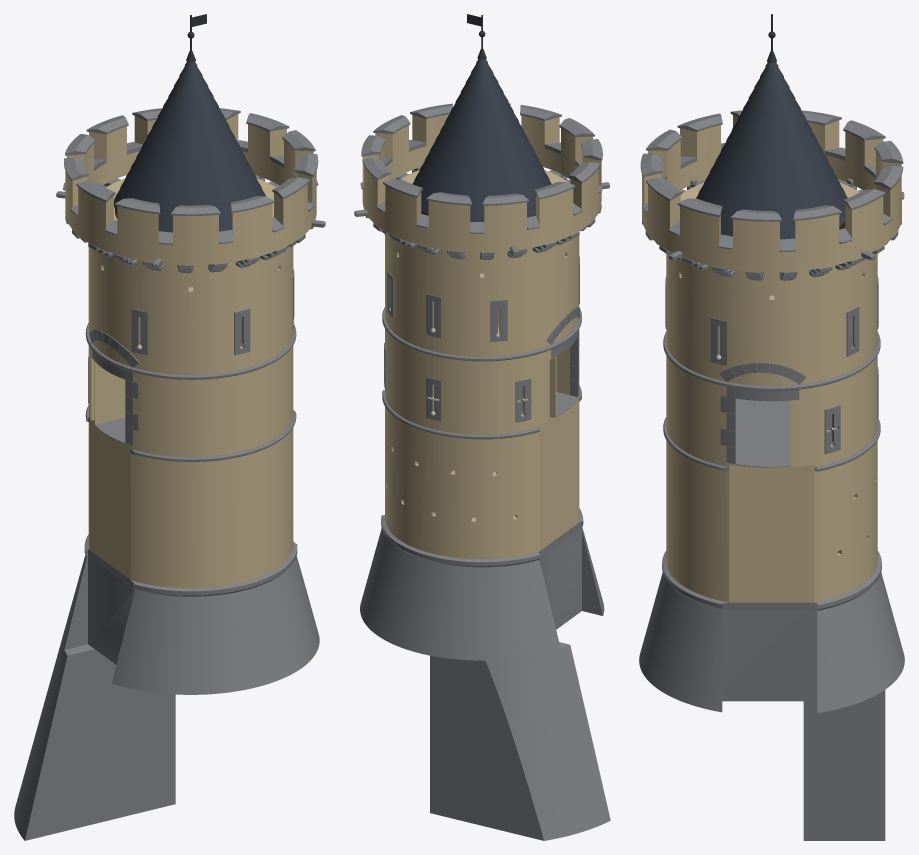
3 views of the same model, side by side, from view 1: azimuth 30°, elevation 25°; view 2: azimuth 150°, elevation 25°; view 3: azimuth 270°, elevation 25° (orthographic). The views are drawn at different scales.
Parts seen in each view (by area): view 1: Mesh_GateTower_ck-limestone-ashlar, Mesh_GateTower_ck-rubble, Mesh_GateTower_ck-granite-ashlar, Mesh_GateTower_ck-slate; view 2: Mesh_GateTower_ck-limestone-ashlar, Mesh_GateTower_ck-rubble, Mesh_GateTower_ck-granite-ashlar, Mesh_GateTower_ck-slate; view 3: Mesh_GateTower_ck-limestone-ashlar, Mesh_GateTower_ck-rubble, Mesh_GateTower_ck-granite-ashlar, Mesh_GateTower_ck-slate.
Boxes of the visible parts, left/top/right/bottom form: Mesh_GateTower_ck-limestone-ashlar: left=65, top=114, right=316, bottom=588; Mesh_GateTower_ck-rubble: left=14, top=555, right=319, bottom=840; Mesh_GateTower_ck-granite-ashlar: left=56, top=108, right=325, bottom=596; Mesh_GateTower_ck-slate: left=114, top=61, right=265, bottom=232; Mesh_GateTower_ck-limestone-ashlar: left=362, top=114, right=601, bottom=559; Mesh_GateTower_ck-rubble: left=360, top=526, right=610, bottom=840; Mesh_GateTower_ck-granite-ashlar: left=354, top=103, right=609, bottom=567; Mesh_GateTower_ck-slate: left=412, top=59, right=551, bottom=221; Mesh_GateTower_ck-limestone-ashlar: left=642, top=115, right=901, bottom=602; Mesh_GateTower_ck-rubble: left=639, top=573, right=904, bottom=840; Mesh_GateTower_ck-granite-ashlar: left=640, top=110, right=904, bottom=610; Mesh_GateTower_ck-slate: left=696, top=62, right=847, bottom=239.
Size of the model in its own units: 10.33 by 30.2 by 8.8.
